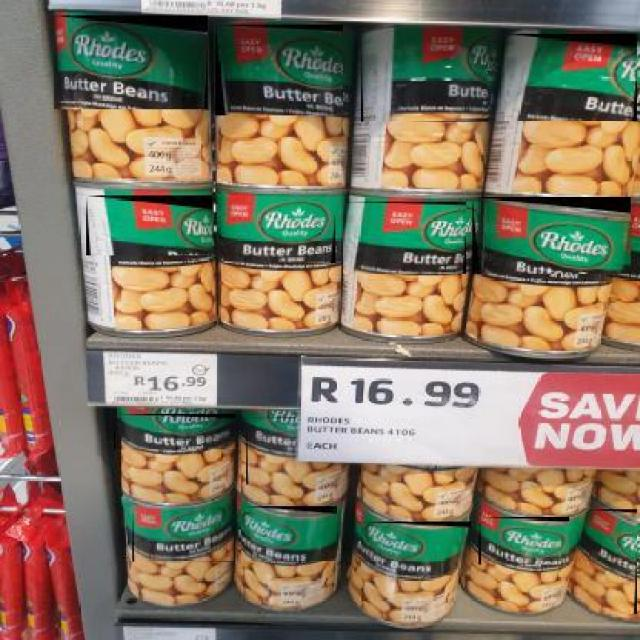Beans: (54, 16, 209, 112), (472, 197, 632, 275), (214, 24, 346, 118), (360, 28, 489, 124), (504, 34, 638, 121), (343, 202, 468, 276), (86, 195, 214, 257), (223, 197, 337, 265), (360, 522, 472, 578), (132, 508, 235, 563), (244, 506, 338, 562), (590, 510, 638, 616), (113, 414, 238, 451), (479, 518, 572, 567), (246, 417, 297, 486)
